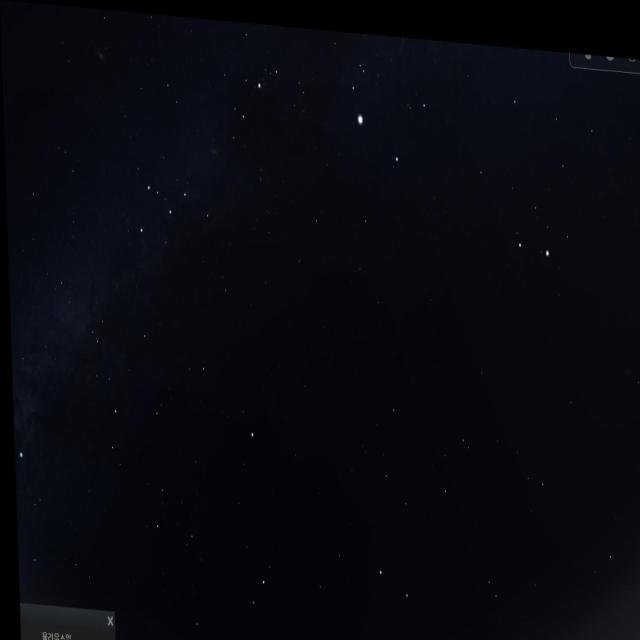cassiopeia: (130, 162, 215, 262)
